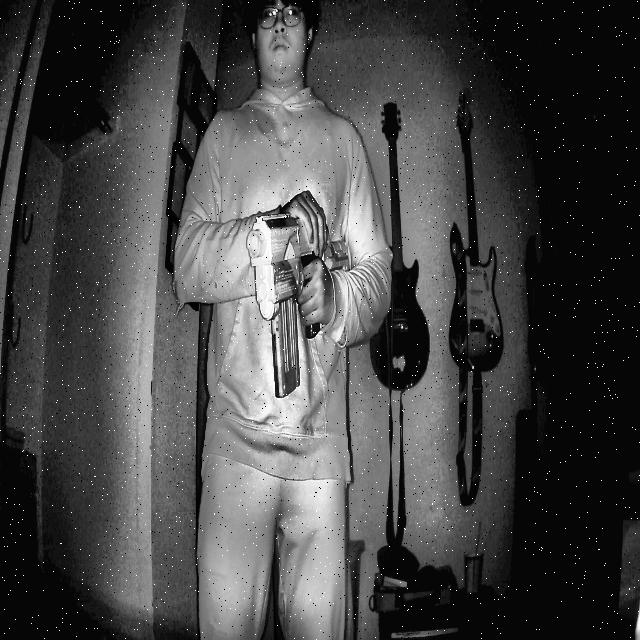Nerf_Blaster: (241, 182, 362, 404)
